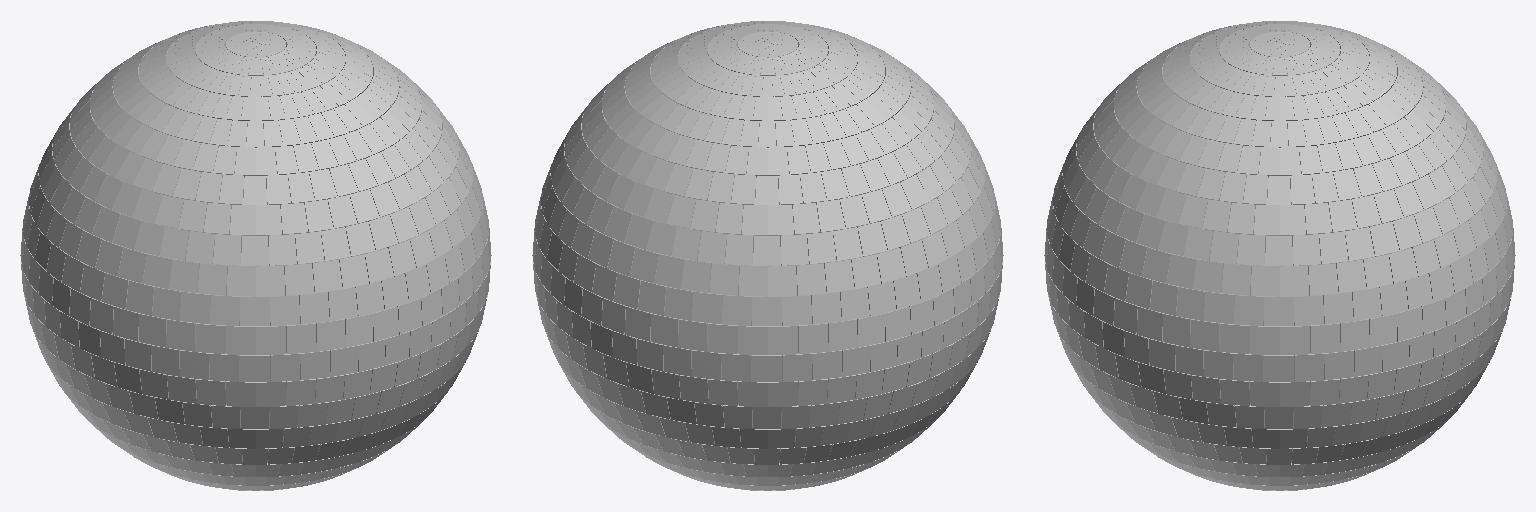
File: DiscoBall.obj
The picture shows the model from 3 angles: view 1: azimuth 30°, elevation 25°; view 2: azimuth 150°, elevation 25°; view 3: azimuth 270°, elevation 25°; orthographic projection.
Visible parts, largest first — view 1: Sphere; view 2: Sphere; view 3: Sphere.
Boxes of the visible parts, x1=… form: Sphere: x1=20, y1=21, x2=491, y2=490; Sphere: x1=532, y1=21, x2=1003, y2=490; Sphere: x1=1044, y1=21, x2=1515, y2=490.
Size of the model in its own units: 2.04 by 2.04 by 2.04.